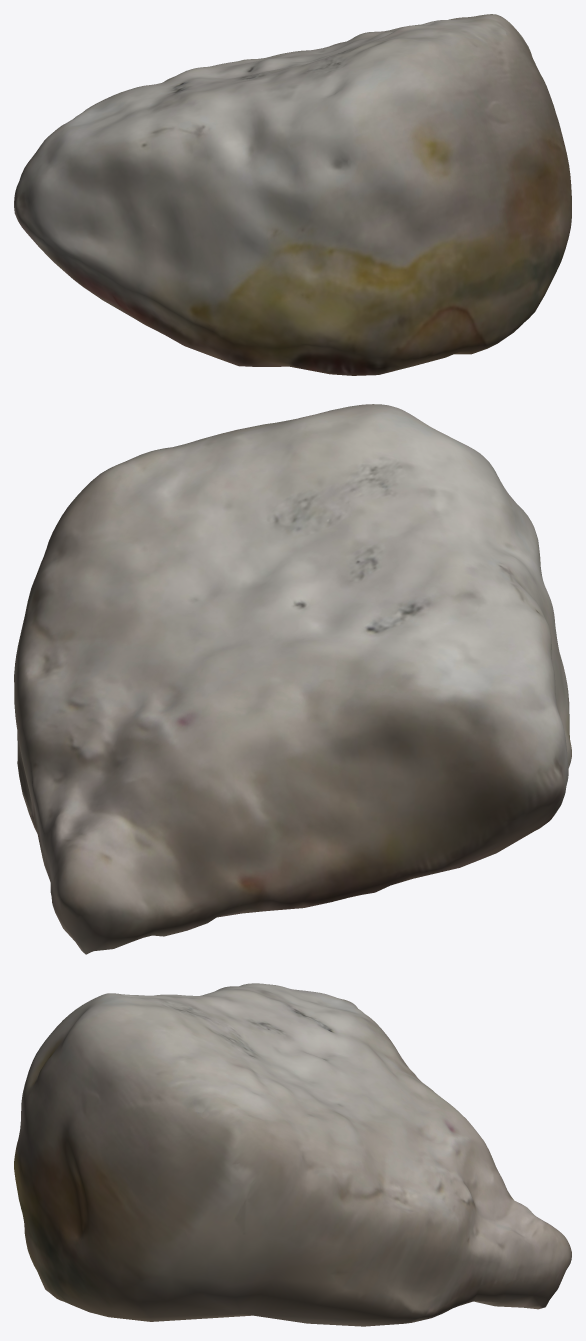
3 renders of one model, top to bottom at view 1: azimuth 30°, elevation 25°; view 2: azimuth 150°, elevation 25°; view 3: azimuth 270°, elevation 25°, orthographic. The views are drawn at different scales.
Size of the model in its own units: 0.4134 by 0.2539 by 0.443.
1 material, 1 textured.
